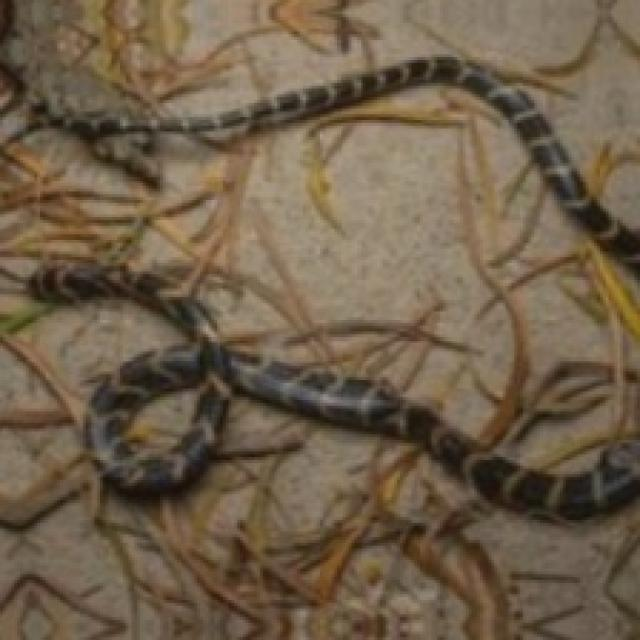king cobra: (30, 264, 640, 517), (68, 56, 640, 278)
